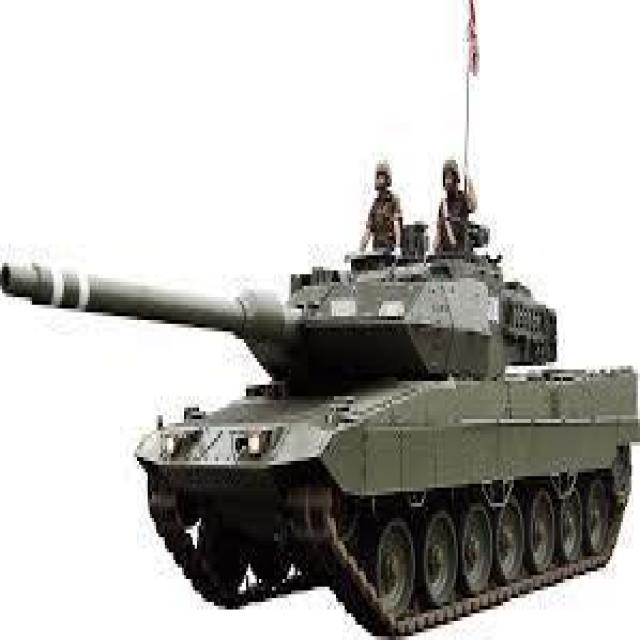Tanks: (9, 59, 565, 604)
